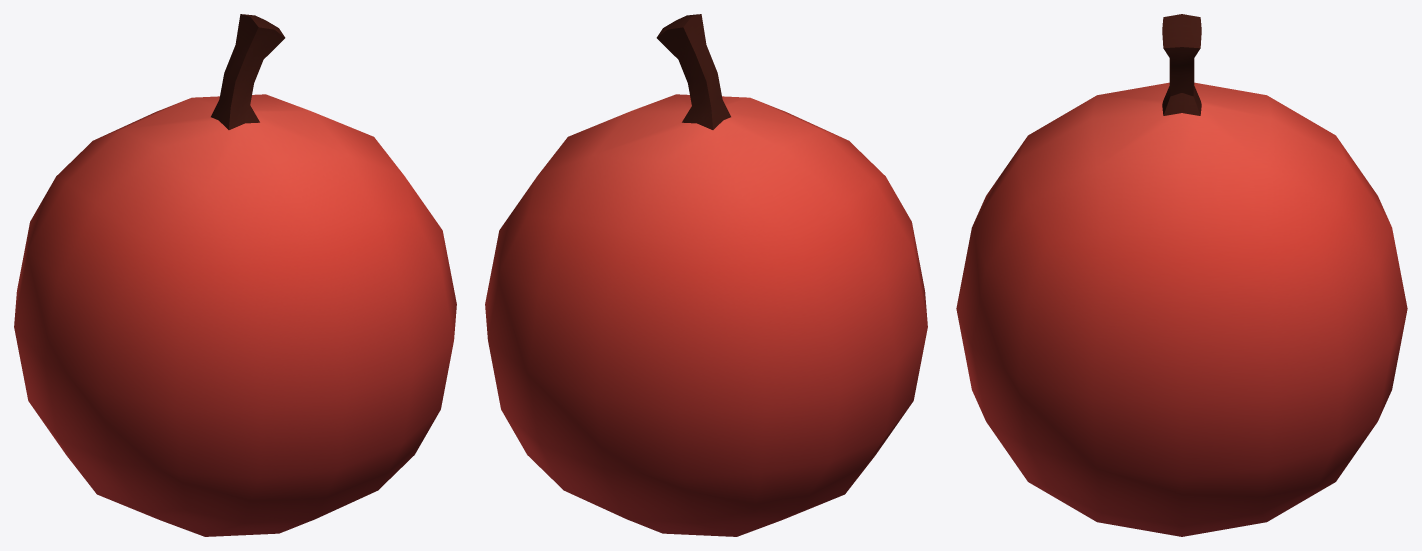
Rendered from SM_Apple_V01.fbx.
3 views of the same model, side by side, from view 1: azimuth 30°, elevation 25°; view 2: azimuth 150°, elevation 25°; view 3: azimuth 270°, elevation 25° (orthographic). The views are drawn at different scales.
Visible parts, largest first — view 1: SM_Apple_V01; view 2: SM_Apple_V01; view 3: SM_Apple_V01.
Part boxes in pixels (box(x1,y1,x2,y2)): SM_Apple_V01: box(14, 14, 456, 536); SM_Apple_V01: box(485, 14, 927, 536); SM_Apple_V01: box(956, 14, 1407, 536).
Bounding box in the file's own units: 20.84 × 25.82 × 20.84.
